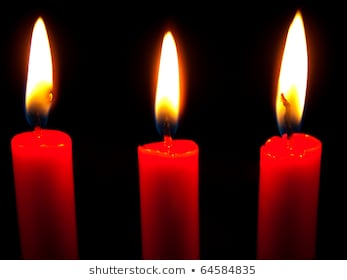Fire: (270, 9, 315, 130), (21, 15, 62, 117), (151, 31, 184, 126)
